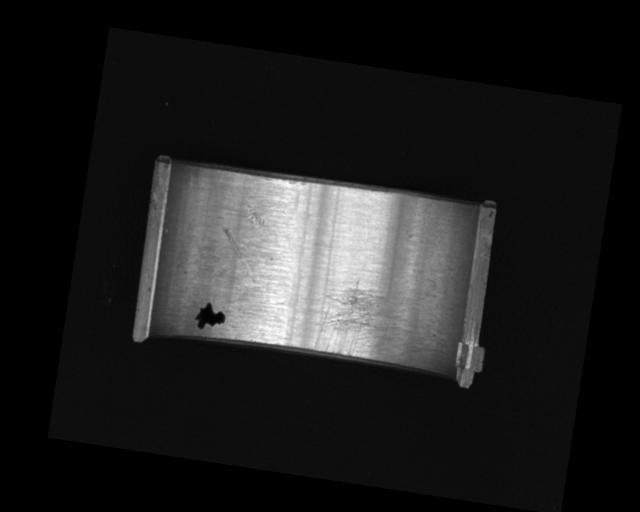blot: (191, 299, 228, 332)
bruise: (242, 203, 267, 229)
nick: (215, 227, 261, 283)
scratch: (312, 274, 436, 368)
